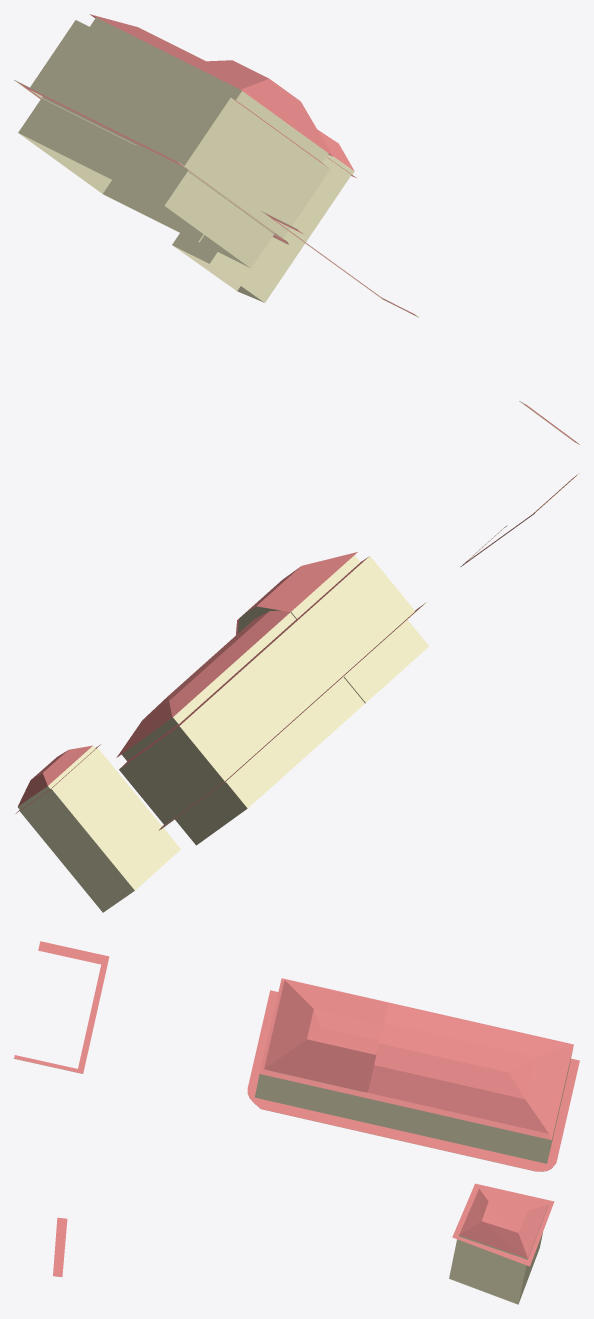
File: tile_044.glb
The picture shows the model from 3 angles, top to bottom: view 1: azimuth 30°, elevation 25°; view 2: azimuth 150°, elevation 25°; view 3: azimuth 270°, elevation 25°; orthographic projection. The views are drawn at different scales.
Parts seen in each view (by area): view 1: Batched_Building_ID_41060304-31E4-475D-A980-299391F12D35, Batched_Building_ID_CA491A7E-FF0A-42A1-8792-12F14F49354A; view 2: Batched_Building_ID_41060304-31E4-475D-A980-299391F12D35, Batched_Building_ID_CA491A7E-FF0A-42A1-8792-12F14F49354A; view 3: Batched_Building_ID_CA491A7E-FF0A-42A1-8792-12F14F49354A, Batched_Building_ID_41060304-31E4-475D-A980-299391F12D35.
Boxes of the visible parts, x1,y1,x2,y2 form: Batched_Building_ID_41060304-31E4-475D-A980-299391F12D35: (14,17,579,444); Batched_Building_ID_CA491A7E-FF0A-42A1-8792-12F14F49354A: (18,14,578,443); Batched_Building_ID_41060304-31E4-475D-A980-299391F12D35: (18,473,579,912); Batched_Building_ID_CA491A7E-FF0A-42A1-8792-12F14F49354A: (15,474,577,829); Batched_Building_ID_CA491A7E-FF0A-42A1-8792-12F14F49354A: (14,941,579,1276); Batched_Building_ID_41060304-31E4-475D-A980-299391F12D35: (14,1049,572,1304).
Bounding box in the file's own units: 70.55 × 68.07 × 129.
